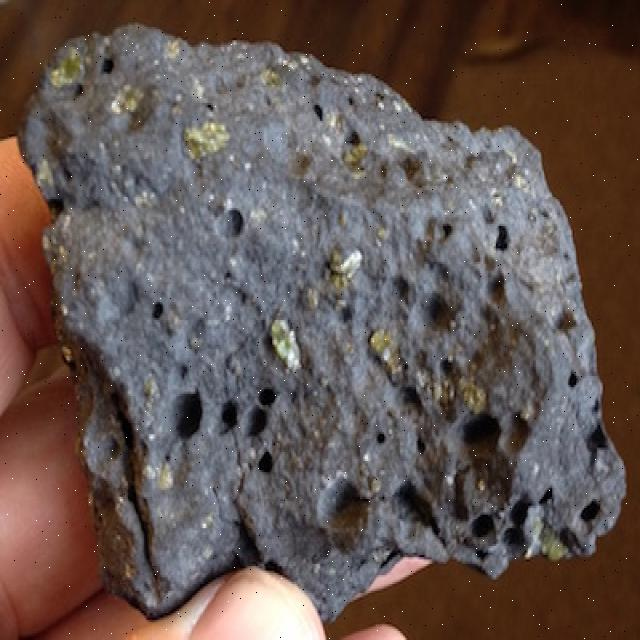Igneous: (21, 25, 632, 584)
